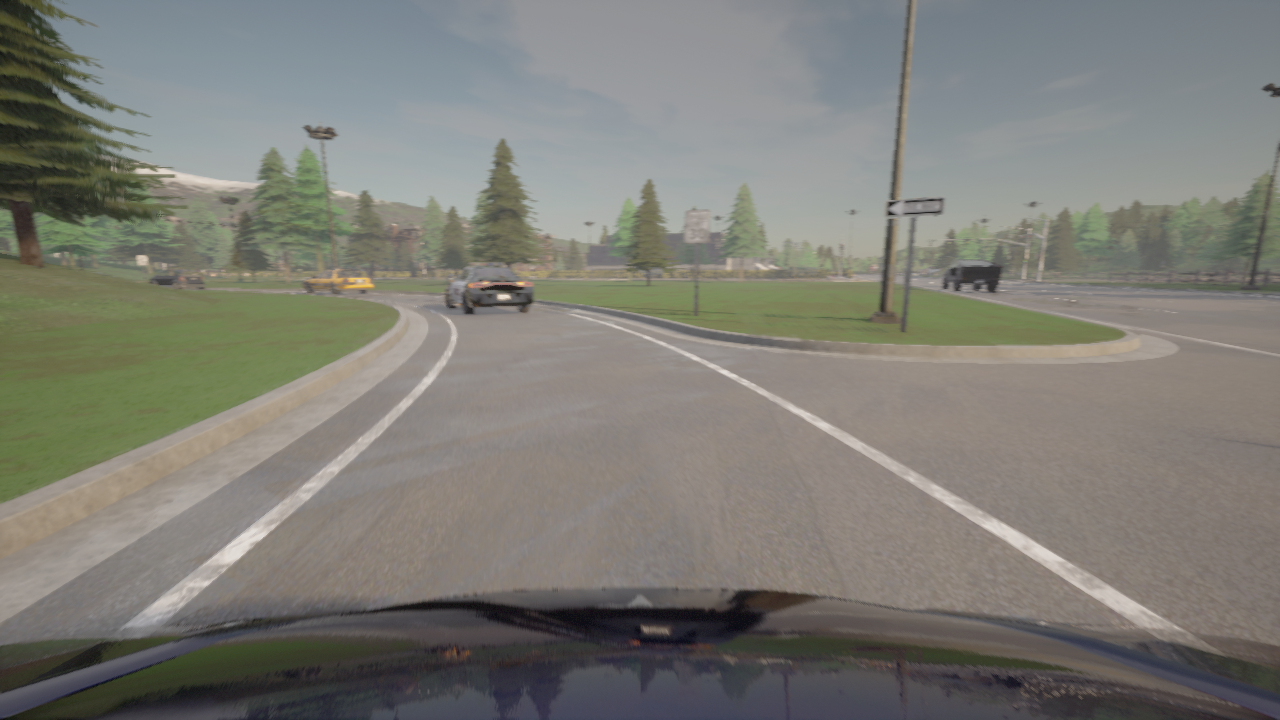cyclist: (0, 588, 1279, 719), (445, 263, 534, 315), (941, 260, 1001, 292), (303, 268, 373, 295), (148, 269, 205, 290), (94, 272, 110, 275)
